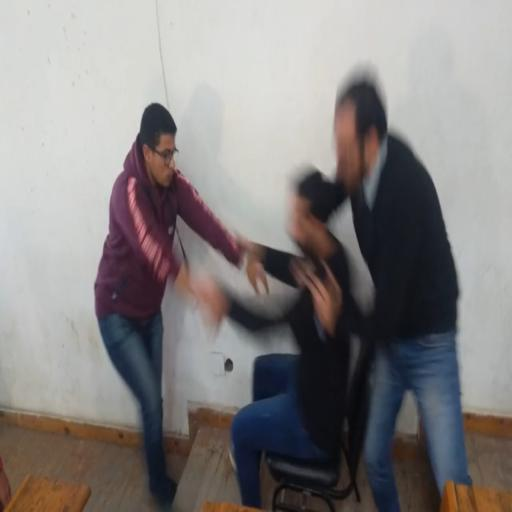violencia: (196, 24, 476, 510)
